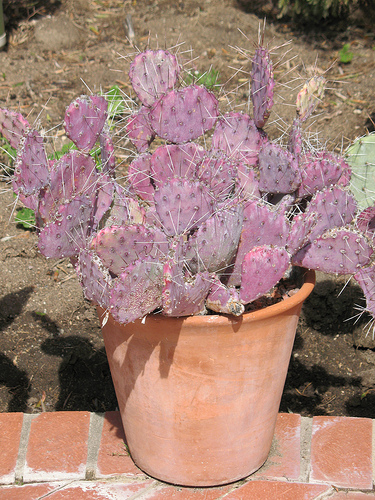tire: (93, 263, 317, 490)
